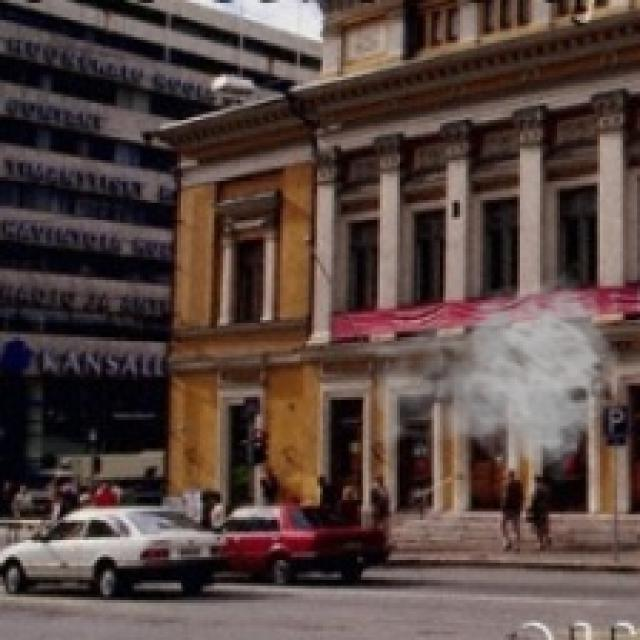Smoke: (351, 271, 626, 486)
